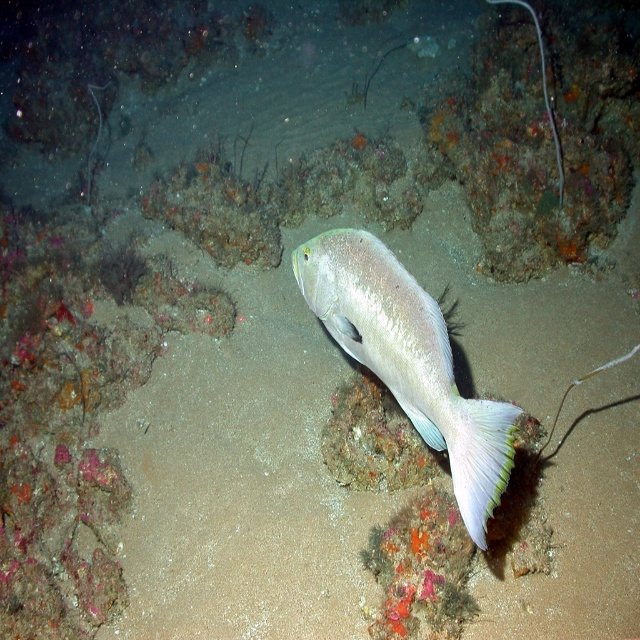Fish: (293, 219, 547, 549)
